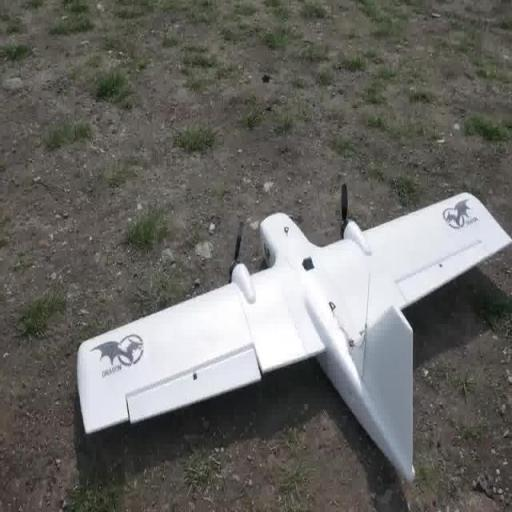uav: (73, 181, 512, 486)
